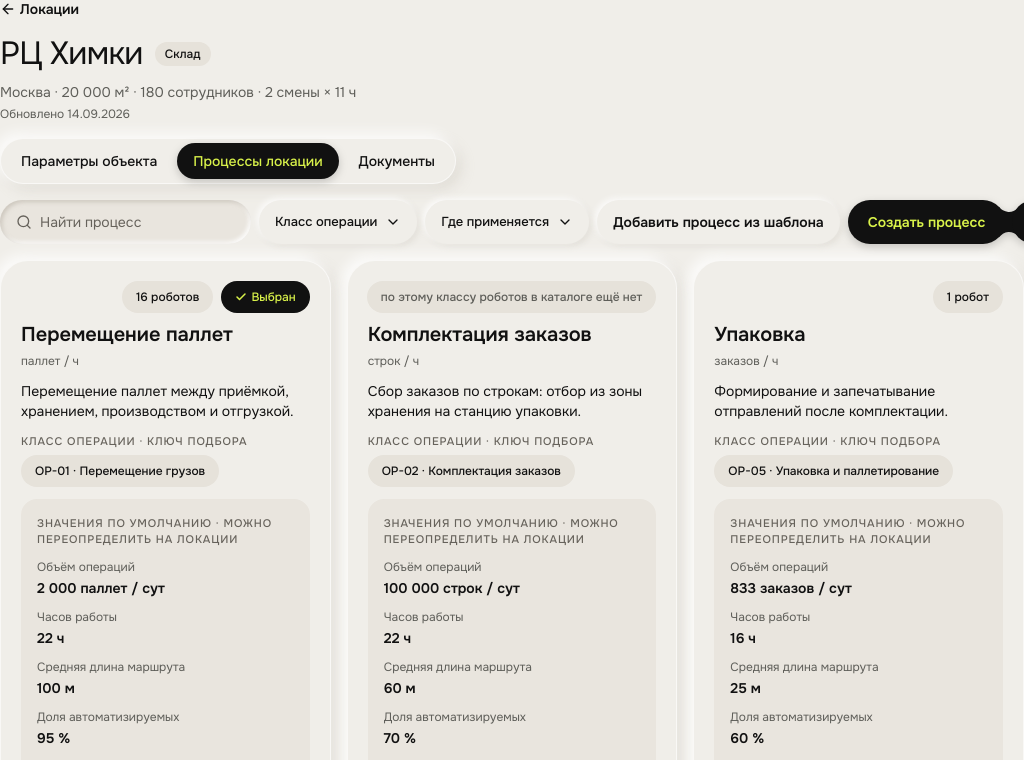
Test: LocationPage (экраны 15 и 17) › окно 15а «Процесс из шаблона» (PRD 10.4) › keeps the dialog open with a message when adding fails
Click the button "Добавить процесс из шаблона" at (718, 222), box [597, 200, 840, 244]
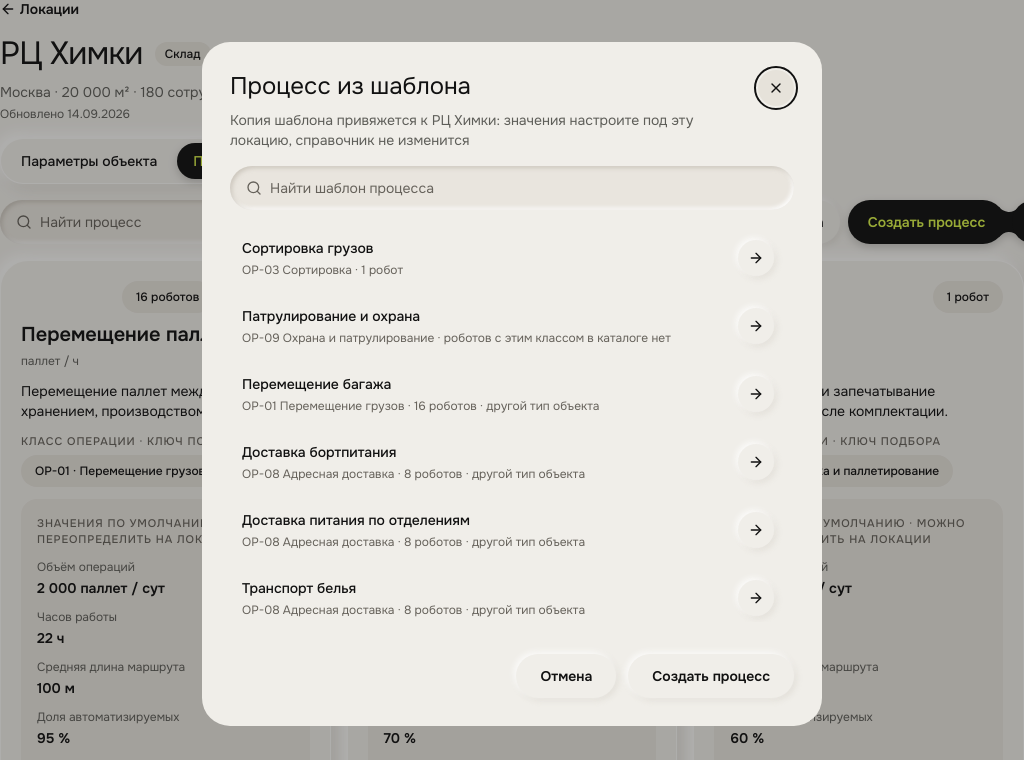
Click the button with aria-label "Добавить «Сортировка грузов» на локацию" at (308, 248), box [230, 226, 786, 290]
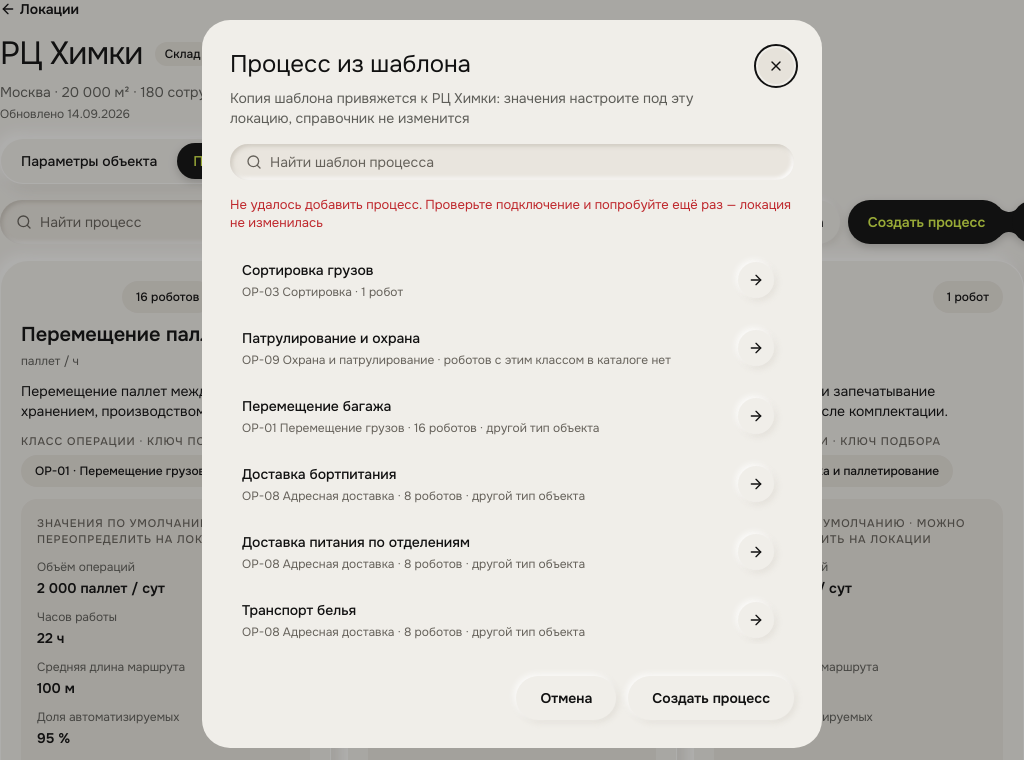
Result: the dialog is shown at [202, 20, 822, 748]
Result: the message shows "Не удалось добавить процесс" at [230, 196, 791, 231]
